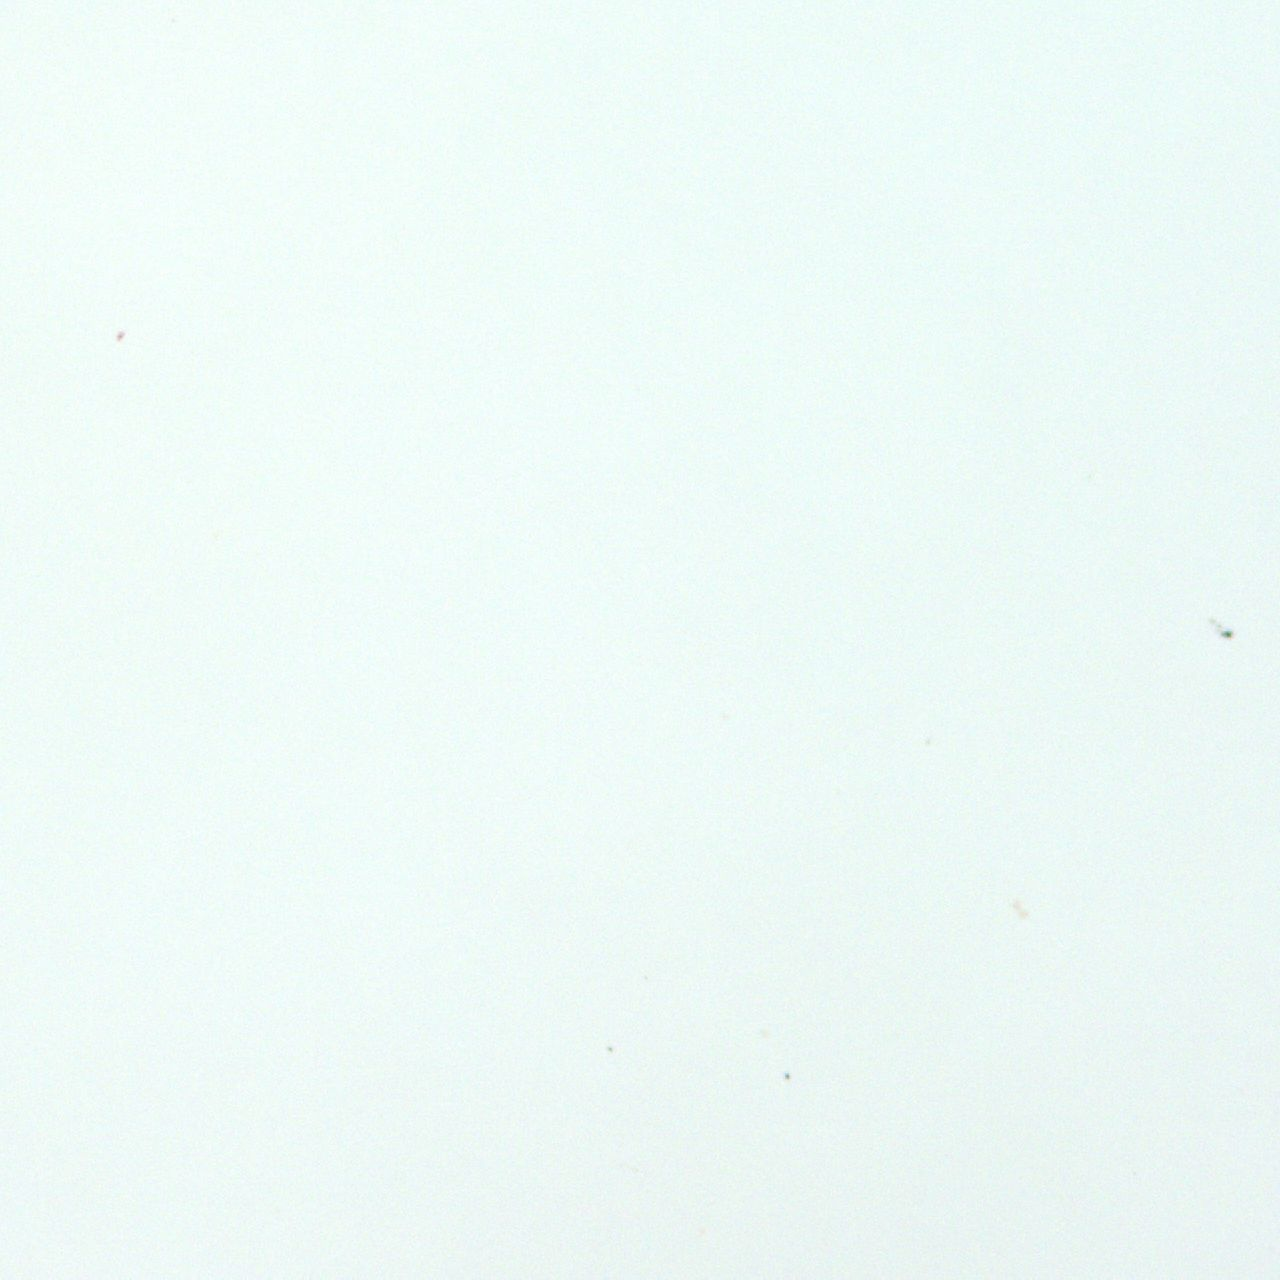dust: (1219, 628, 1235, 641), (115, 331, 129, 345), (783, 1069, 792, 1082), (605, 1046, 613, 1051)
